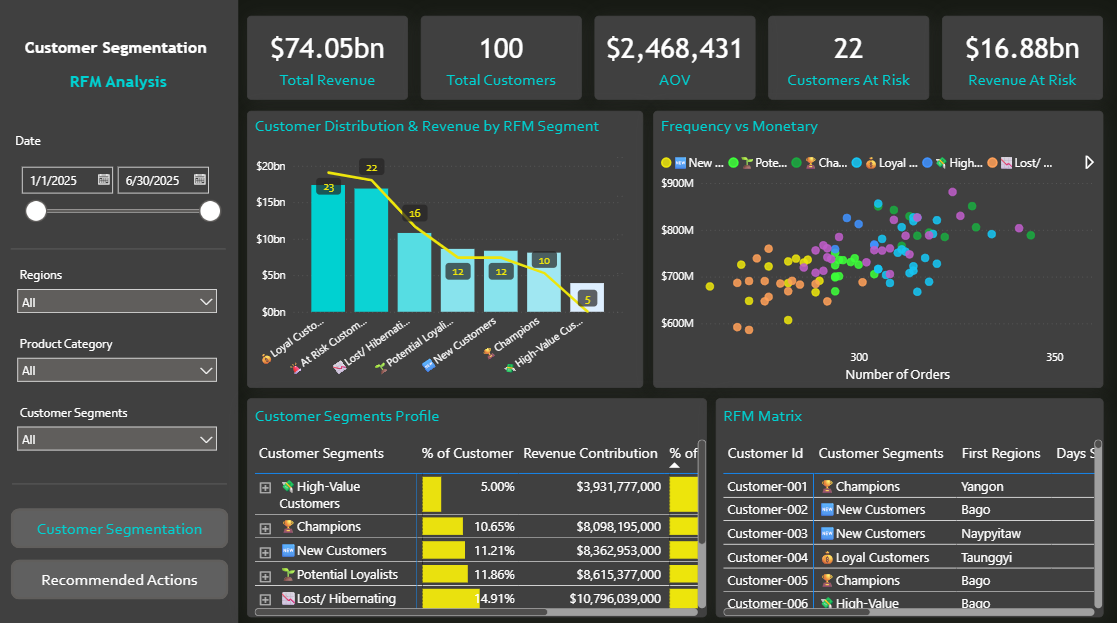

The page's visual inventory and layout, read from the dashboard file:
{"tool":"powerbi","page":{"name":"Customer Segmentation","canvas":[1280,720],"ordinal":1},"visuals":[{"type":"card","fields":{"Values":["tbl_measure.TotalRevenue"]},"box":[285.7,21.4,183.8,95.7],"z":0,"group":"g1"},{"type":"group","id":"g1","title":"Group 1","box":[285.7,21.4,978.6,95.7],"z":0},{"type":"slicer","fields":{"Values":["raw_rfm_sales_transactions_30000 csv.Regions"]},"box":[13.4,304.3,248.6,72.9],"z":0,"group":"g2"},{"type":"card","fields":{"Values":["tbl_measure.Total Customers"]},"box":[881.8,21.4,183.8,95.7],"z":1000,"group":"g1"},{"type":"lineClusteredColumnComboChart","title":"Customer Distribution & Revenue by RFM Segment","fields":{"Category":["Customer RFM.Customer Segments"],"Y":["tbl_measure.TotalRevenue"],"Y2":["CountNonNull(Customer RFM.Customer Id)"]},"box":[285.7,131.4,452.9,317.1],"z":1000},{"type":"slicer","fields":{"Values":["raw_rfm_sales_transactions_30000 csv.Product Category"]},"box":[13.4,382.9,248.6,72.9],"z":1000,"group":"g2"},{"type":"shape","box":[0,0,275.7,720],"z":2000},{"type":"card","fields":{"Values":["tbl_measure.Total Customers"]},"box":[484.4,21.4,183.8,95.7],"z":2000,"group":"g1"},{"type":"slicer","fields":{"Values":["Customer RFM.Customer Segments"]},"box":[13.4,461.4,248.6,72.9],"z":2000,"group":"g2"},{"type":"card","fields":{"Values":["tbl_measure.AOV"]},"box":[683.1,21.4,183.8,95.7],"z":3000,"group":"g1"},{"type":"textbox","box":[15.7,41.4,245.7,75.7],"z":3000},{"type":"card","fields":{"Values":["Sum(Customer RFM.Monetary)"]},"box":[1080.5,21.4,183.8,95.7],"z":4000,"group":"g1"},{"type":"scatterChart","title":"Frequency vs Monetary","fields":{"Series":["Customer RFM.Customer Segments"],"X":["Customer RFM.Frequency"],"Y":["Customer RFM.Monetary"]},"box":[750,131.4,514.3,317.1],"z":4000},{"type":"pivotTable","title":"Customer Segments Profile","fields":{"Rows":["Customer RFM.Customer Segments","raw_rfm_sales_transactions_30000 csv.Regions"],"Values":["Min(raw_rfm_sales_transactions_30000 csv.Customer Id)","tbl_measure.TotalRevenue","Divide(tbl_measure.TotalRevenue, ScopedEval(tbl_measure.TotalRevenue, []))"]},"box":[285.7,458.6,525.7,250],"z":5000},{"type":"pivotTable","title":"RFM Matrix","fields":{"Rows":["Customer RFM.Customer Id"],"Values":["Min(Customer RFM.Customer Segments)","Min(raw_rfm_sales_transactions_30000 csv.Regions)","tbl_measure.DaysSinceLastOrder","tbl_measure.RepeatPurchaseCount","tbl_measure.TotalRevenue","Min(Customer RFM.RFM)"]},"box":[821.4,458.6,442.9,250],"z":6000},{"type":"actionButton","box":[15.7,584.3,248.6,45.7],"z":7000},{"type":"actionButton","box":[15.7,642.9,248.6,45.7],"z":8000},{"type":"slicer","title":"Date","fields":{"Values":["raw_rfm_sales_transactions_30000 csv.Date"]},"box":[15.7,155.7,248.6,111.4],"z":9000},{"type":"group","id":"g2","title":"Group 2","box":[13.4,304.3,248.6,230],"z":10000},{"type":"shape","box":[15.7,264.3,245.7,47.1],"z":11000},{"type":"shape","box":[17.1,532.9,245.7,47.1],"z":12000}]}

Visuals, with their boxes in screenshot pixels (x1, y1, x2, y2), scaled from the page's 1280x720 canvas onto the 1117x623 screenshot:
card - tbl_measure.TotalRevenue: box(249, 19, 410, 101)
"Group 1" group: box(249, 19, 1103, 101)
slicer - raw_rfm_sales_transactions_30000 csv.Regions: box(12, 263, 229, 326)
card - tbl_measure.Total Customers: box(770, 19, 930, 101)
"Customer Distribution & Revenue by RFM Segment" lineClusteredColumnComboChart: box(249, 114, 645, 388)
slicer - raw_rfm_sales_transactions_30000 csv.Product Category: box(12, 331, 229, 394)
shape: box(0, 0, 241, 622)
card - tbl_measure.Total Customers: box(423, 19, 583, 101)
slicer - Customer RFM.Customer Segments: box(12, 399, 229, 462)
card - tbl_measure.AOV: box(596, 19, 757, 101)
textbox: box(14, 36, 228, 101)
card - Sum(Customer RFM.Monetary): box(943, 19, 1103, 101)
"Frequency vs Monetary" scatterChart: box(654, 114, 1103, 388)
"Customer Segments Profile" pivotTable: box(249, 397, 708, 613)
"RFM Matrix" pivotTable: box(717, 397, 1103, 613)
actionButton: box(14, 506, 231, 545)
actionButton: box(14, 556, 231, 596)
"Date" slicer: box(14, 135, 231, 231)
"Group 2" group: box(12, 263, 229, 462)
shape: box(14, 229, 228, 269)
shape: box(15, 461, 229, 502)
